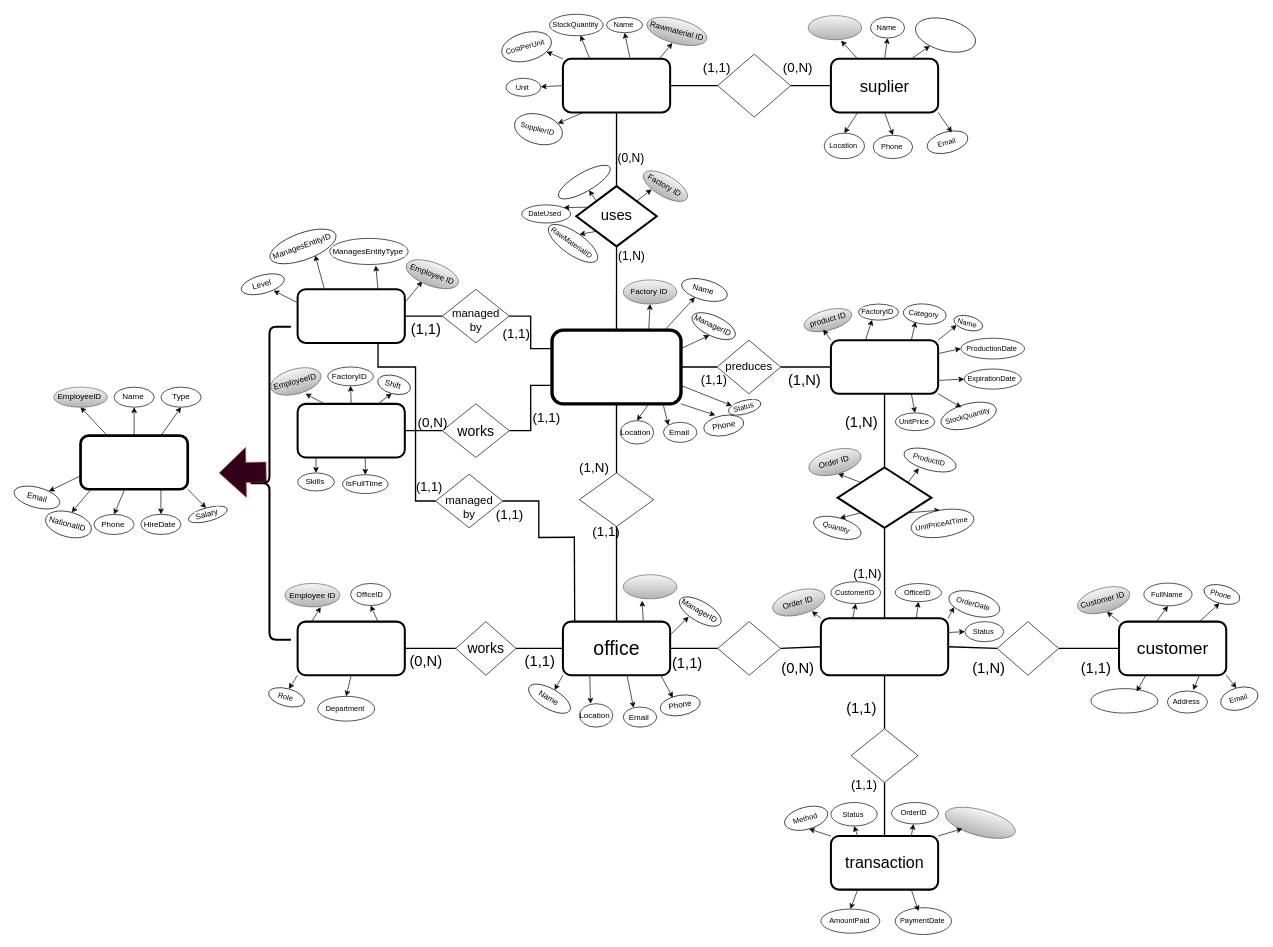
Image size: 1273x947. Some labels were removed from this diagram. The box of each missing label's shape, as (x1, y1, x2, y2) in pixels:
cantains: (836, 466, 932, 528)
CompanyName: (911, 11, 979, 58)
employees: (79, 434, 189, 490)
factory: (550, 328, 682, 405)
Hanldes: (717, 621, 781, 675)
manager: (296, 288, 405, 344)
manages and controls: (579, 472, 654, 526)
office employee: (296, 620, 405, 676)
OfficeID INT: (623, 574, 677, 599)
order: (820, 617, 949, 676)
places: (996, 621, 1059, 675)
product: (830, 339, 939, 394)
purches: (850, 728, 918, 782)
QuantityUsed: (553, 158, 615, 205)
RegisteredDate: (1090, 688, 1158, 713)
row material: (562, 57, 671, 113)
suplied by: (717, 53, 791, 117)
Supplier ID: (807, 15, 862, 40)
Transaction ID: (941, 800, 1018, 845)
worker: (296, 403, 405, 458)
